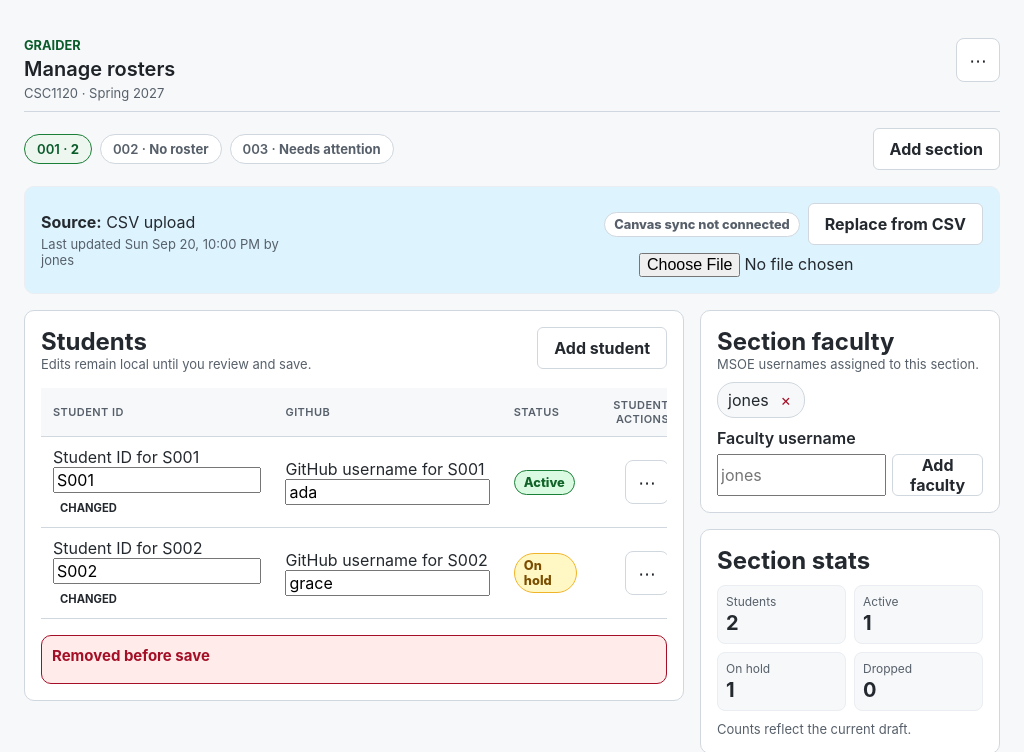
Test: RosterManagerPage › adopts local roster-only state when publication fails
Expected: the field showing "ada" is shown, left=286, top=479, right=490, bottom=505
Click the button named "More roster actions": click(978, 60) left=956, top=38, right=1000, bottom=82
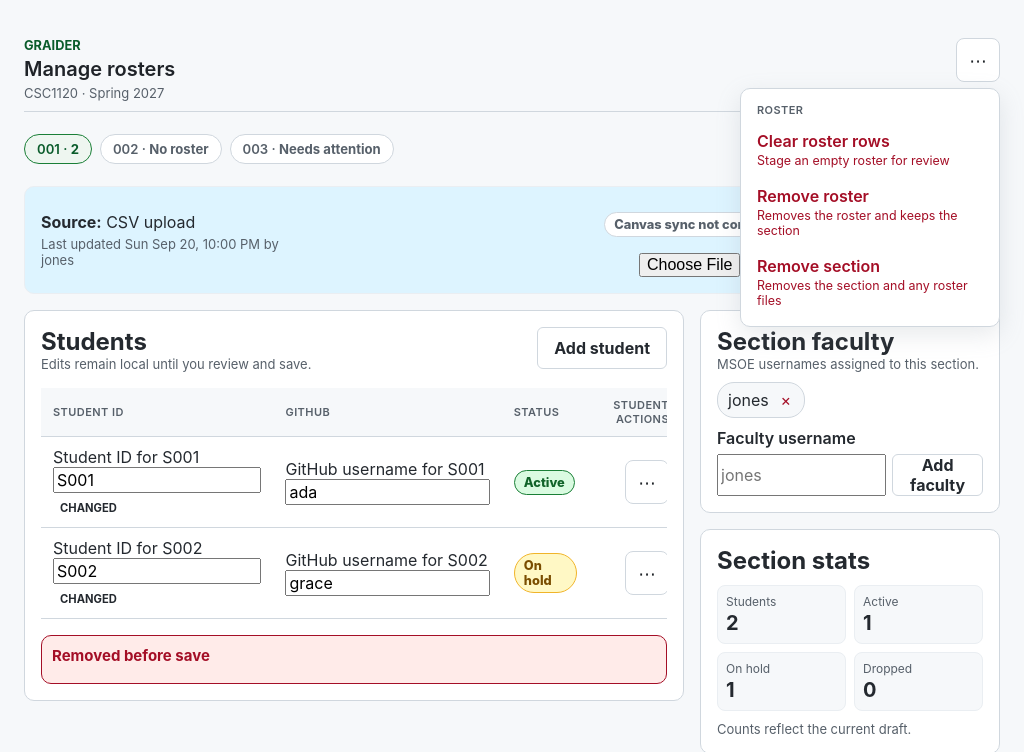
Click the menu item "Remove roster Removes the roster and keeps the section": click(870, 212) left=747, top=178, right=993, bottom=246
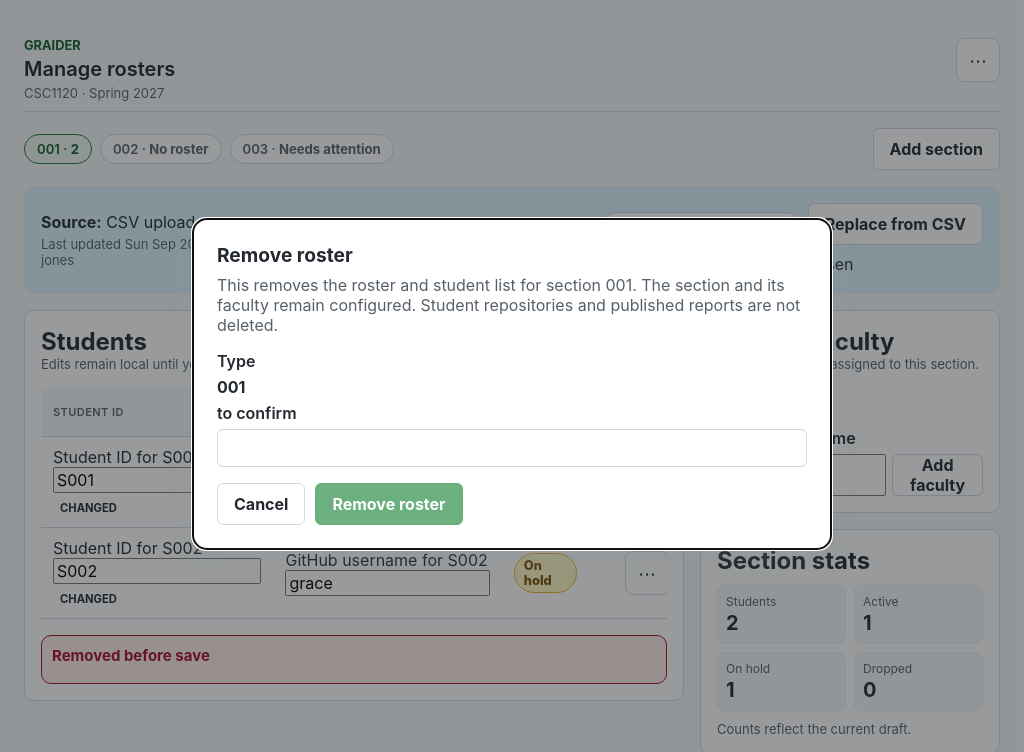
In the field labelled "Type 001 to confirm": (512, 448) left=217, top=429, right=807, bottom=467, type "001"
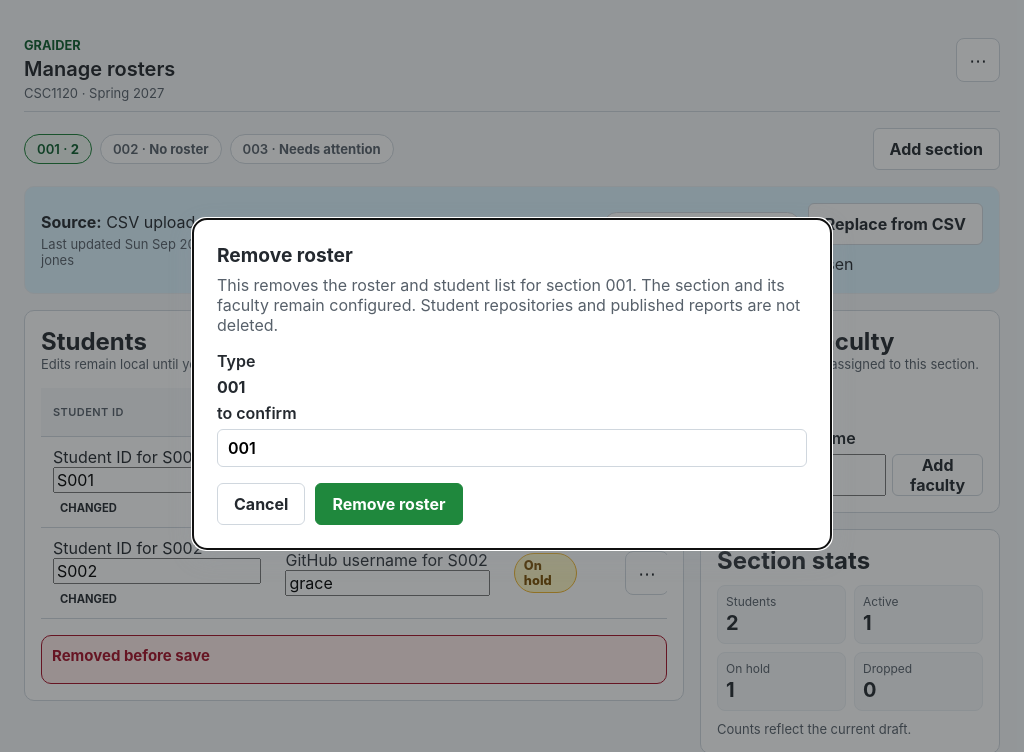
Click the button "Remove roster": click(389, 504) left=315, top=483, right=463, bottom=525
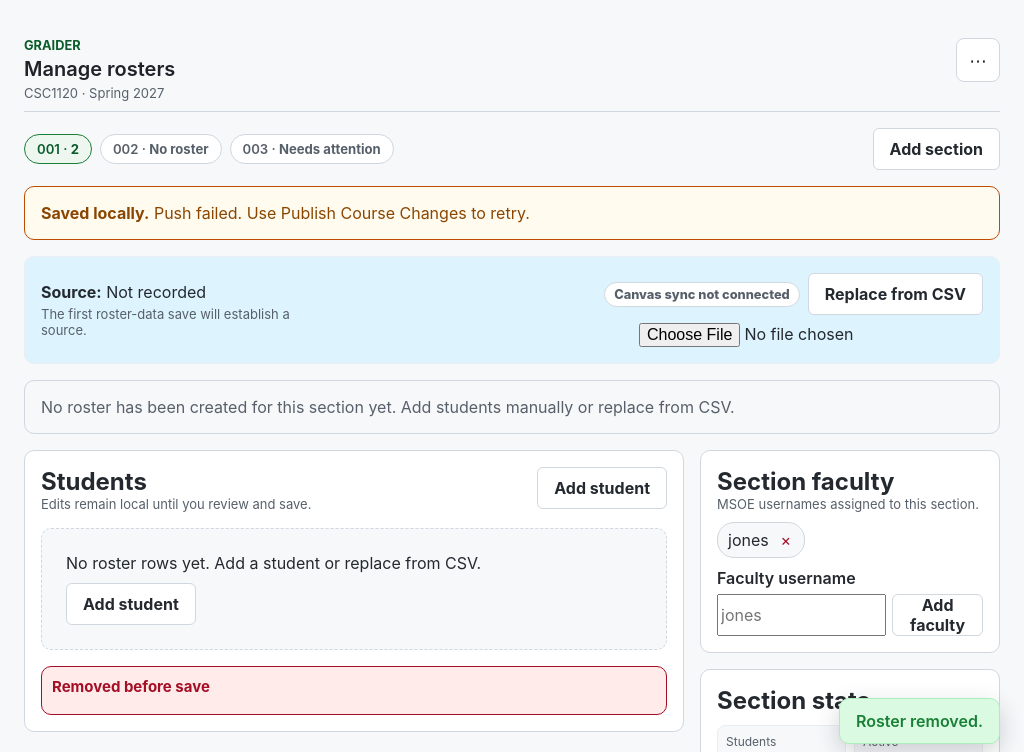
Expected: the text "jones" is shown, left=728, top=530, right=769, bottom=550
Now the text "No roster has been created for this section yet" is shown, box left=41, top=397, right=734, bottom=417
